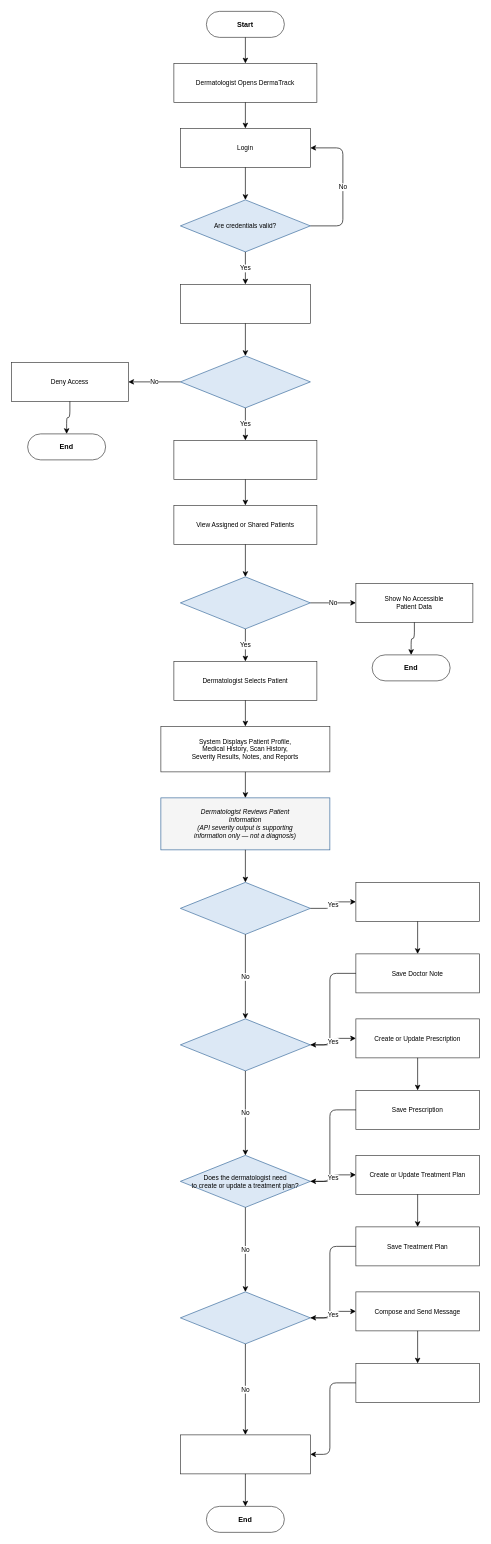
This 491x1544 diagram has some shape labels left out. Here are the shapes that lost their labels. From the top down, the centre of each, then its label:
(245,303): System Checks User Role
(245,381): Is the user role Dermatologist?
(245,459): Open Dermatologist Dashboard
(245,602): Has the patient shared data with the dermatologist?
(245,908): Does the dermatologist need to add a note?
(417,901): Add Doctor Note to Scan
(245,1044): Does the dermatologist need to issue or update a prescription?
(245,1317): Does the dermatologist need to message the patient?
(417,1382): Save Message
(245,1454): System Updates Patient-Accessible Records
